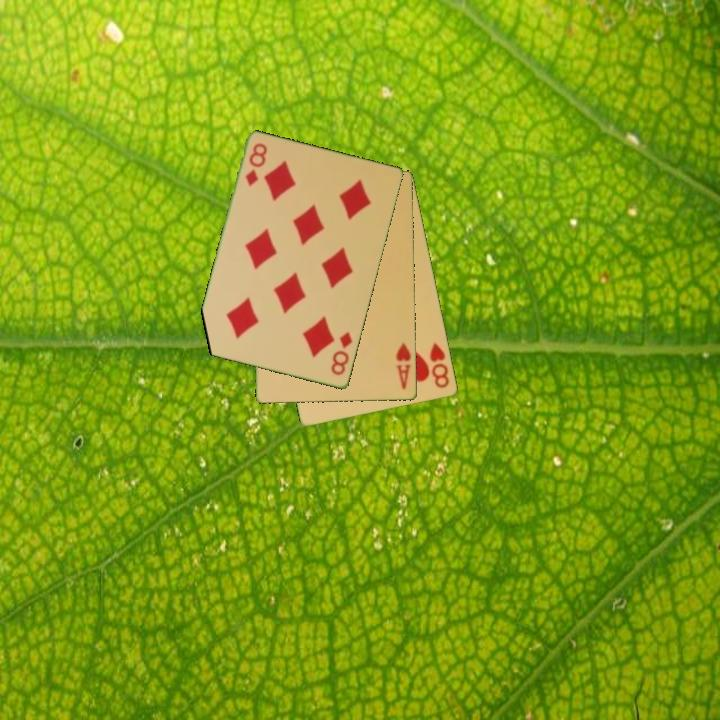8d: (327, 329, 356, 378), (242, 140, 270, 190)
8h: (426, 339, 452, 391)
Ah: (393, 340, 414, 392)
